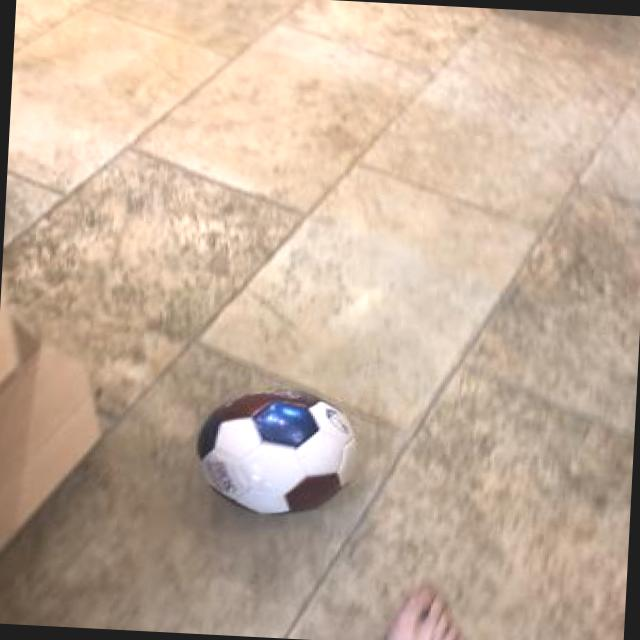Soccer Ball: (192, 381, 364, 517)
